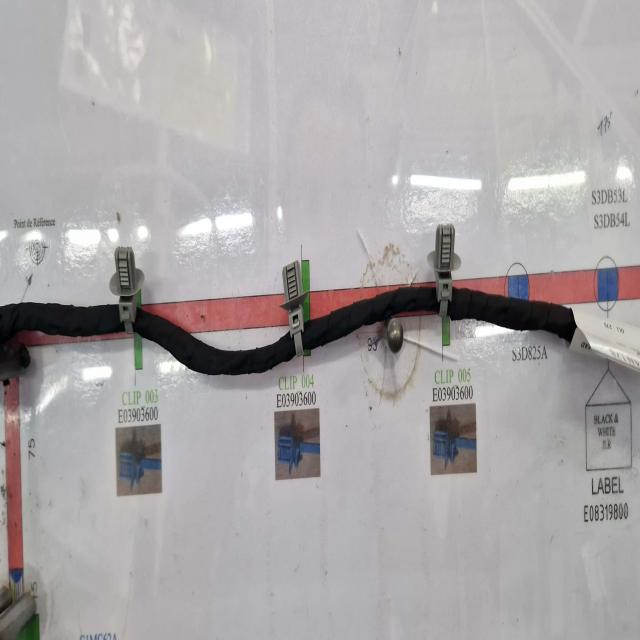Clip: (428, 223, 461, 318), (110, 247, 145, 334), (282, 261, 306, 356)
Info: (570, 299, 640, 372)
MHEV_N11_Cable: (131, 310, 295, 375), (304, 285, 440, 350), (449, 288, 576, 342), (0, 302, 121, 342)
